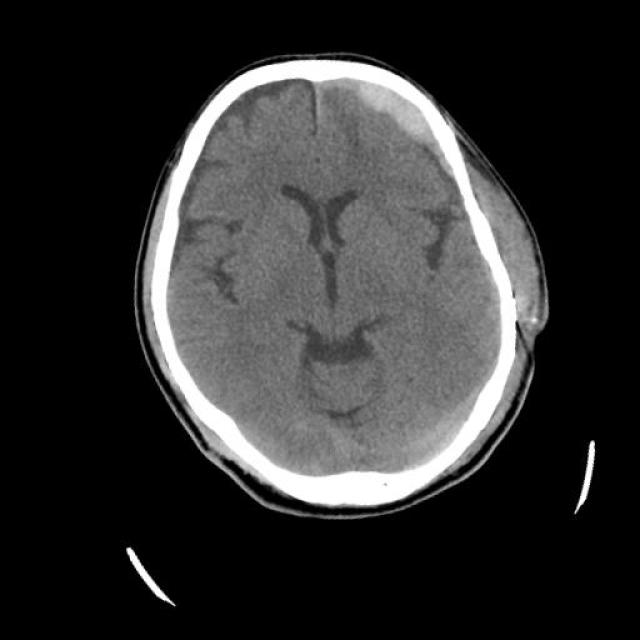Subdural: (314, 46, 465, 198)
